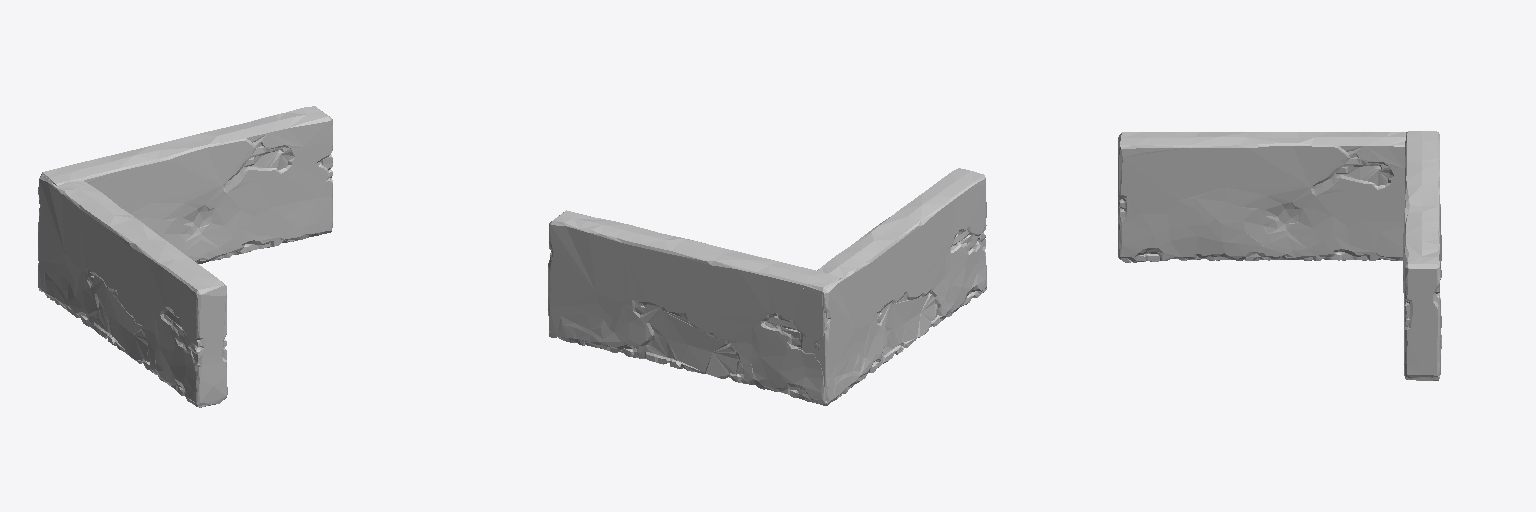
The model's file is Lwall.obj.
3 views of the same model, side by side, from view 1: azimuth 30°, elevation 25°; view 2: azimuth 150°, elevation 25°; view 3: azimuth 270°, elevation 25° (orthographic).
Visible parts, largest first — view 1: wall, wall.001; view 2: wall, wall.001; view 3: wall.001, wall.
Part boxes in pixels (bbox=[...]): wall: bbox=[40, 106, 332, 263]; wall.001: bbox=[38, 175, 227, 407]; wall: bbox=[548, 210, 840, 404]; wall.001: bbox=[798, 168, 986, 405]; wall.001: bbox=[1118, 132, 1405, 262]; wall: bbox=[1403, 131, 1441, 380].
Size of the model in its own units: 202 by 83.4 by 202.